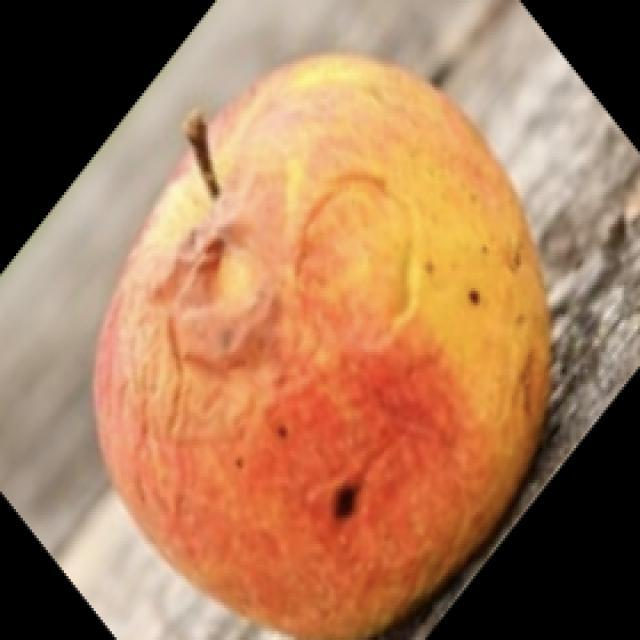Rotten: (101, 59, 582, 628)
